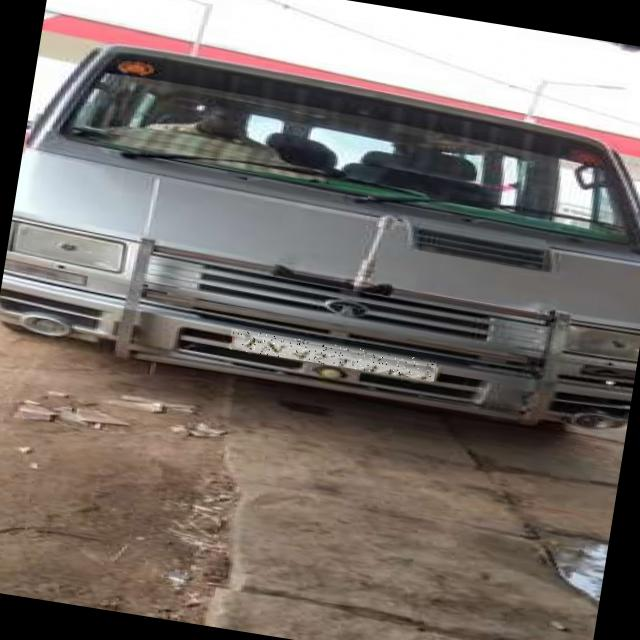Plate: (229, 330, 438, 383)
